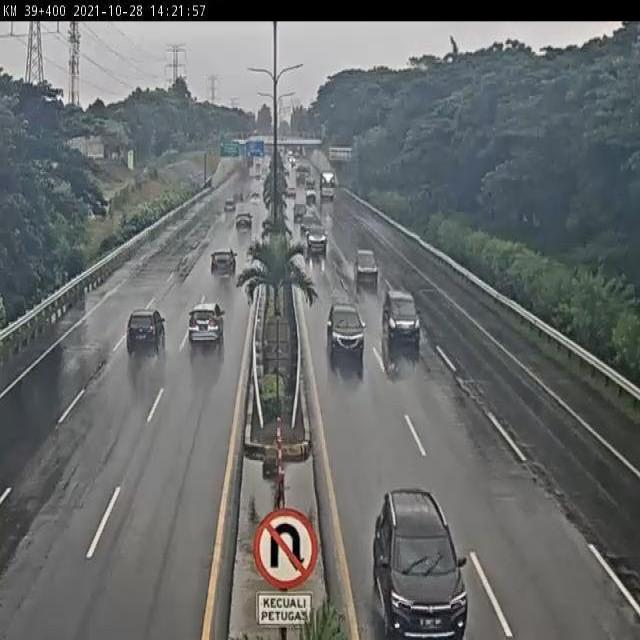car: (371, 485, 471, 640), (380, 284, 423, 345), (325, 301, 367, 359), (126, 306, 167, 358), (187, 303, 226, 349), (209, 244, 238, 279), (355, 251, 379, 284), (305, 223, 328, 256)
